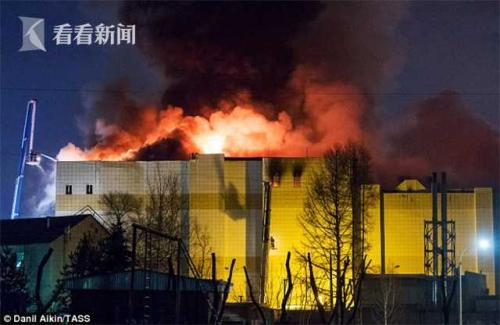fire: (100, 112, 364, 149)
smoke: (140, 4, 389, 99)
